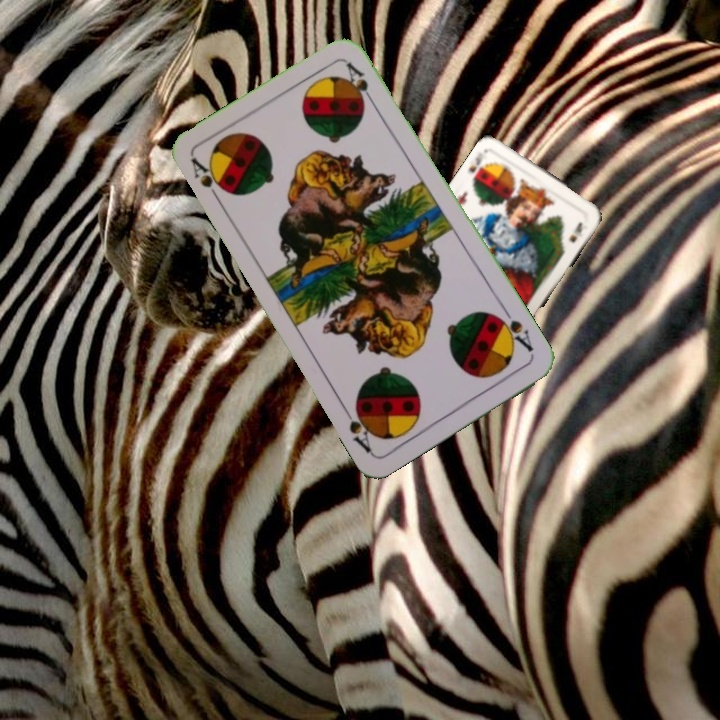SA: (490, 304, 537, 355), (187, 154, 228, 207)
SK: (463, 145, 496, 185)
